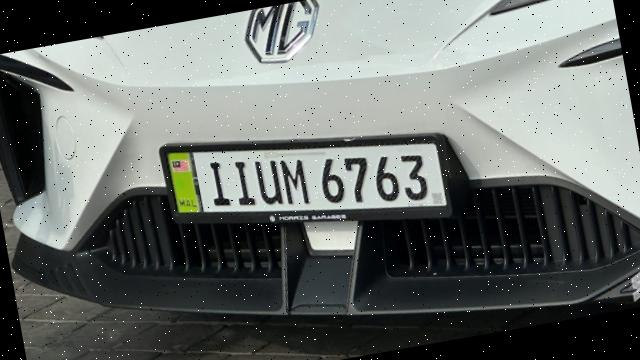License_Plate: (158, 96, 460, 267)
car: (1, 1, 640, 360)
